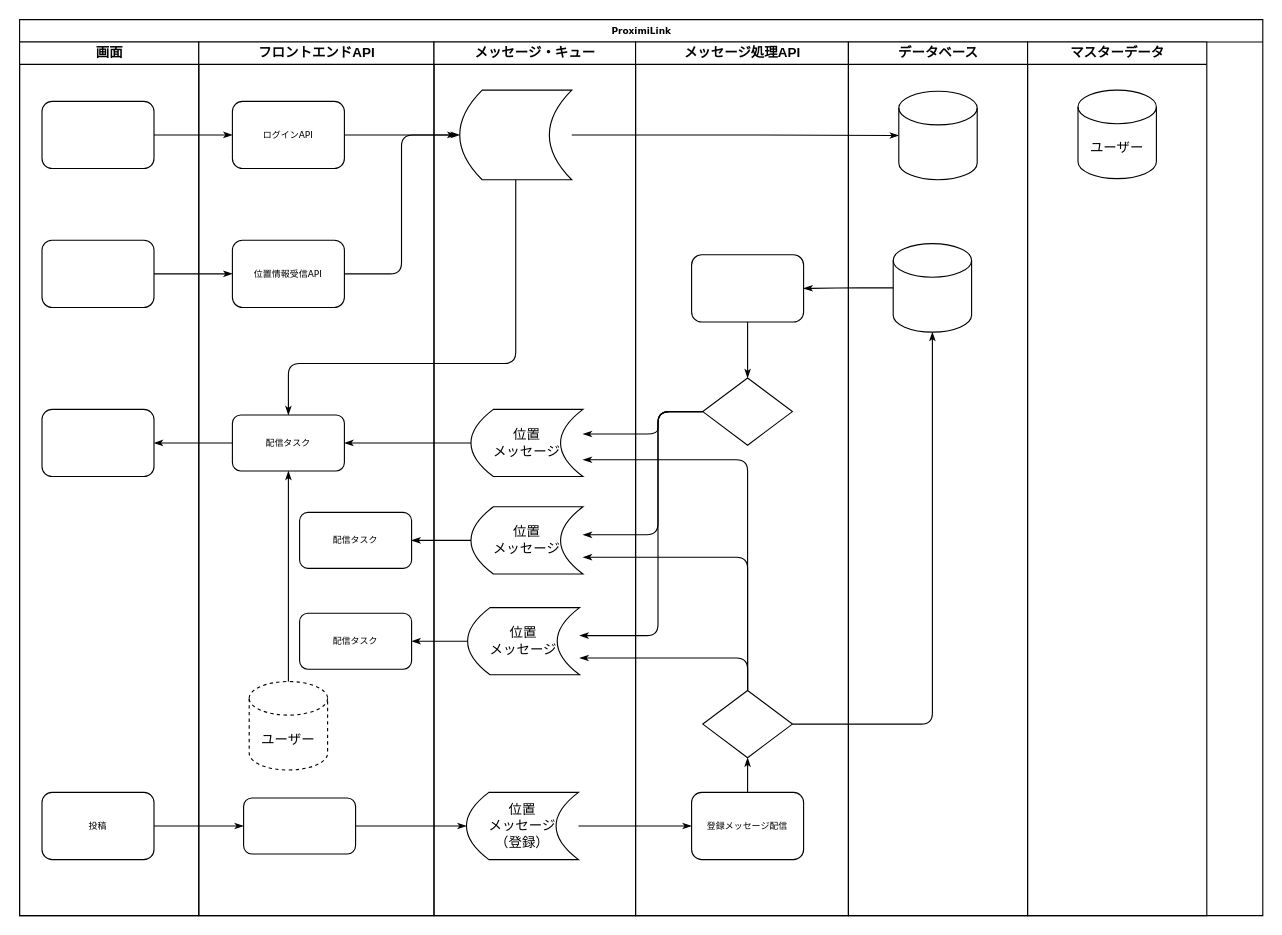
This 1282x935 diagram has some shape labels left out. Each missing label, with the centre of its shape:
DashBoard: the point at 97,442
セッション キュー: the point at 515,134
ログイン: the point at 97,134
位置・登録判定: the point at 747,723
位置判定: the point at 747,411
位置検知＆通信: the point at 97,273
投稿API: the point at 299,825
登録 メッセージ: the point at 932,287
登録メッセージ 配信 初期化: the point at 747,288
集計・分析: the point at 937,135
